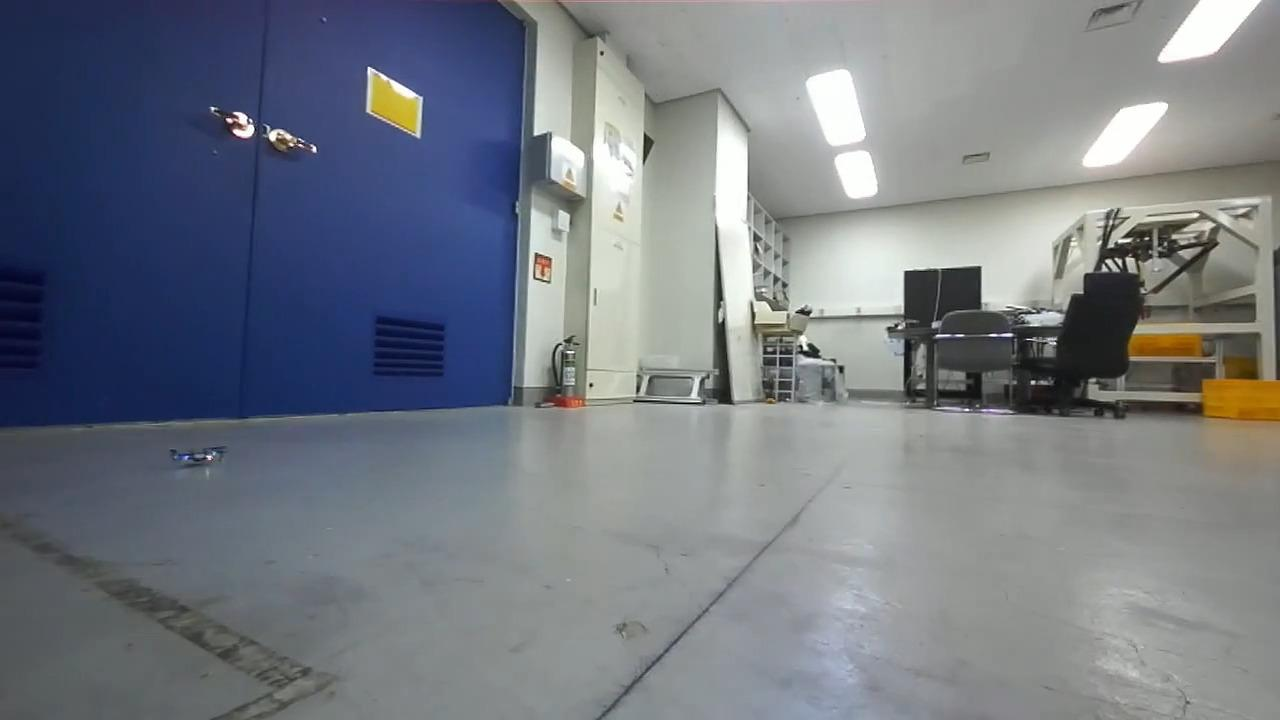crazyflie: (165, 441, 227, 472)
